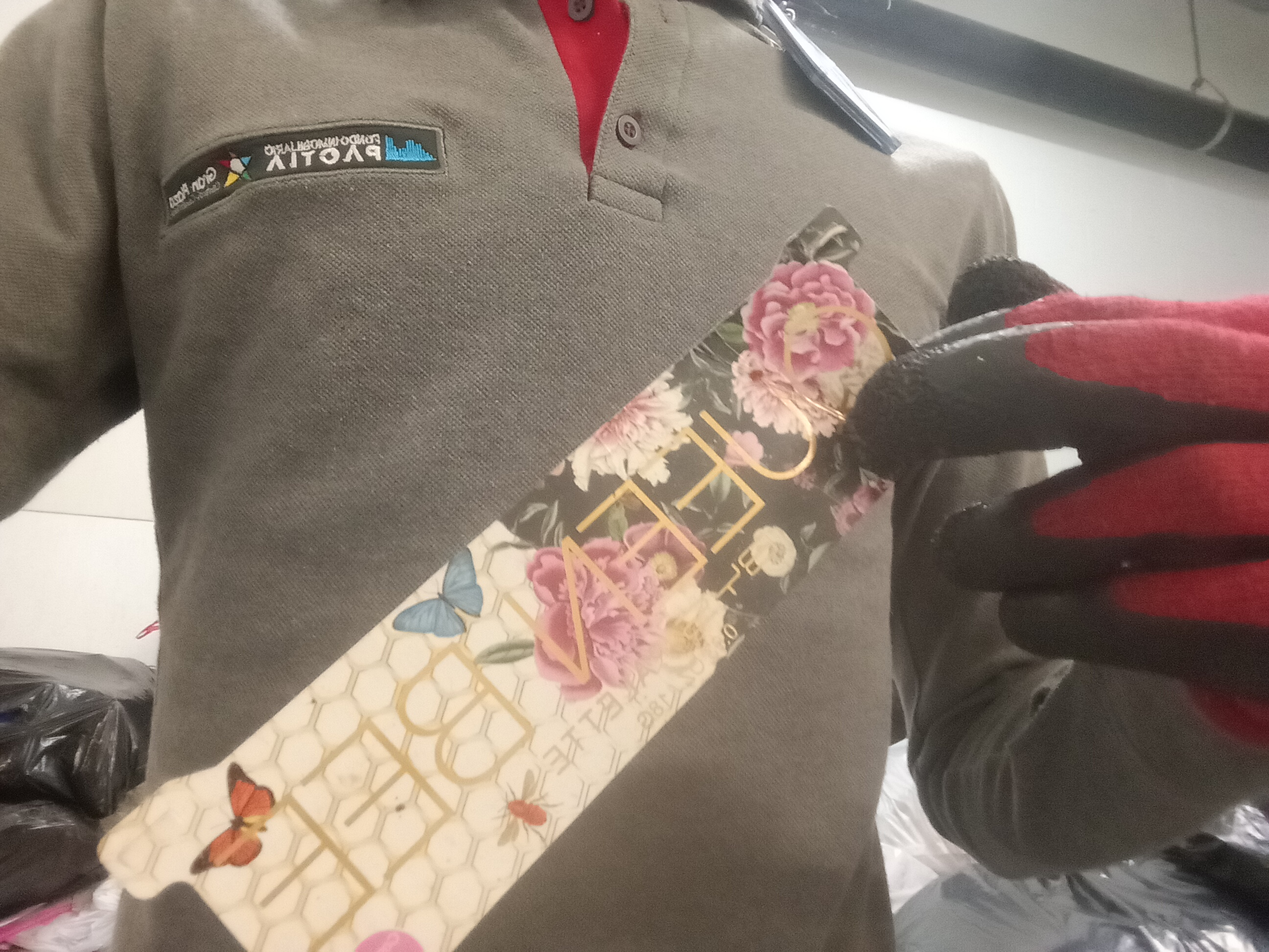Ordinario: (96, 207, 920, 952)
